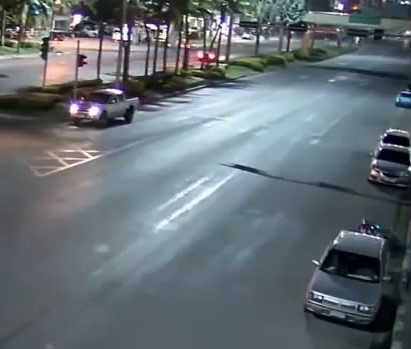car: (304, 229, 387, 328), (70, 88, 142, 131), (370, 127, 409, 191), (393, 89, 411, 109)
